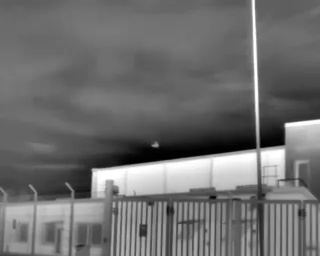HELICOPTER: (148, 138, 164, 152)
